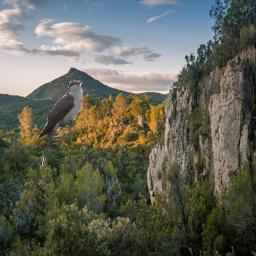Cuckoo: (38, 80, 83, 167)
